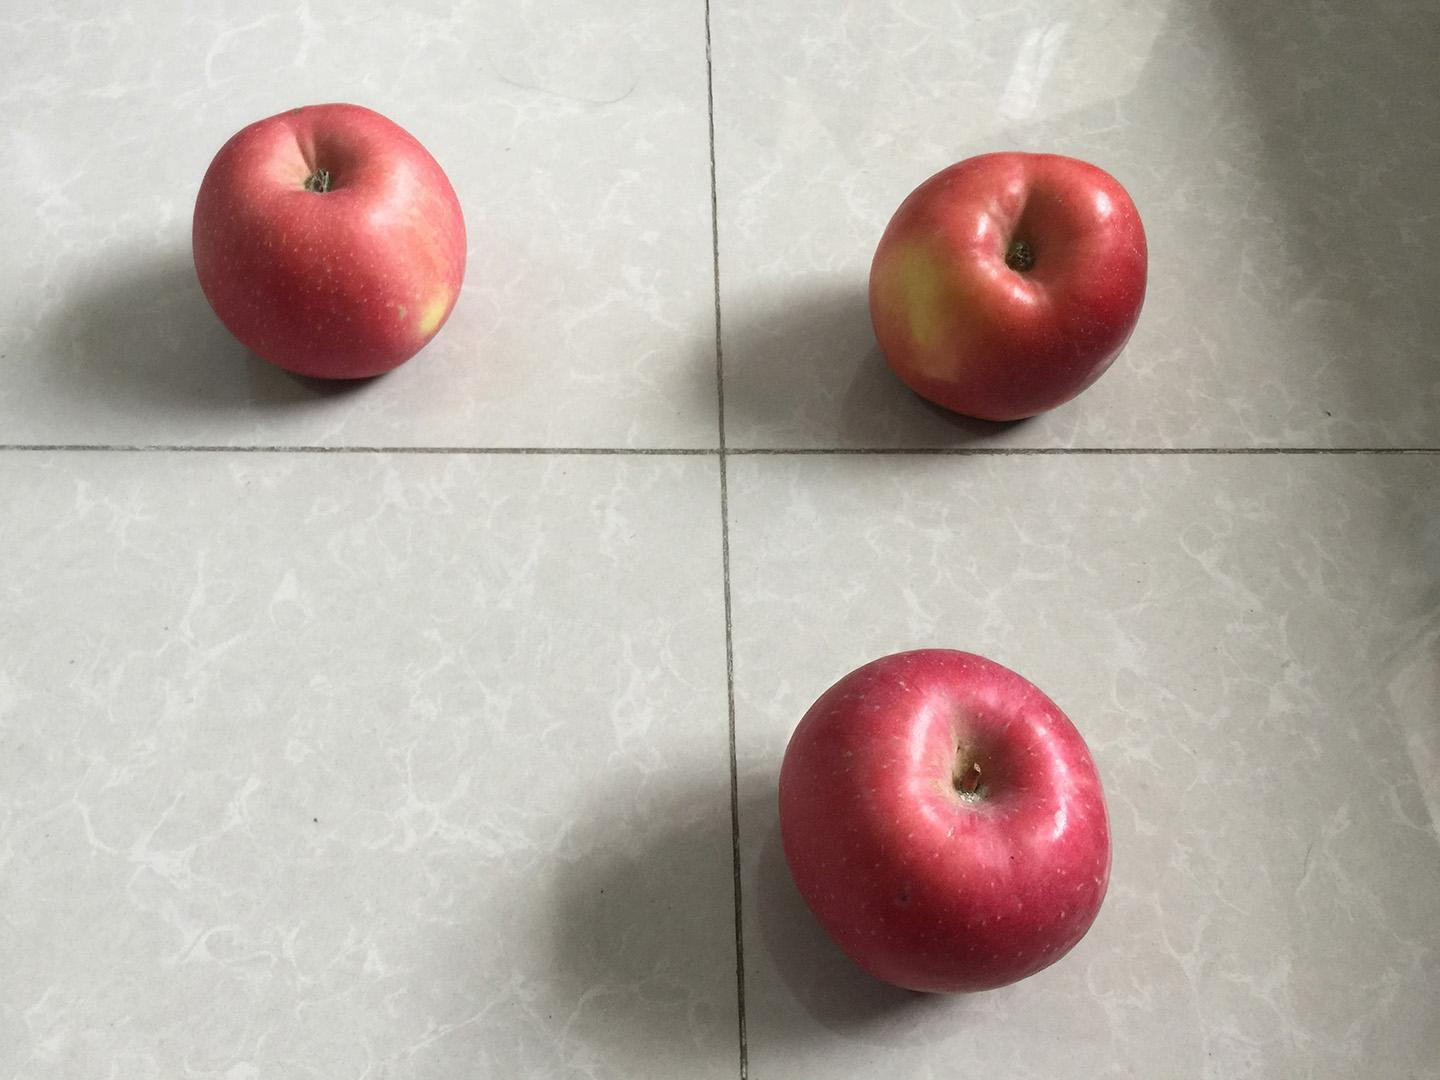apple: (769, 640, 1121, 1002), (864, 146, 1157, 431), (188, 92, 468, 389)
